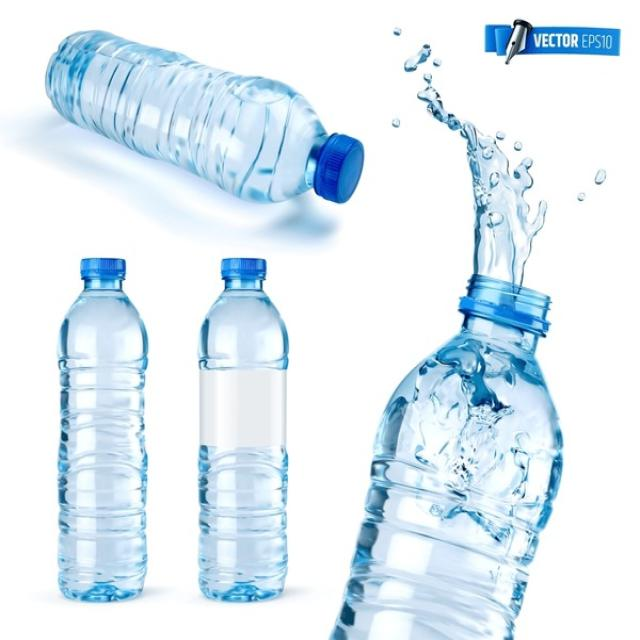plastic_bottle: (13, 32, 385, 216), (373, 250, 537, 640), (42, 238, 154, 602), (195, 253, 292, 621)
